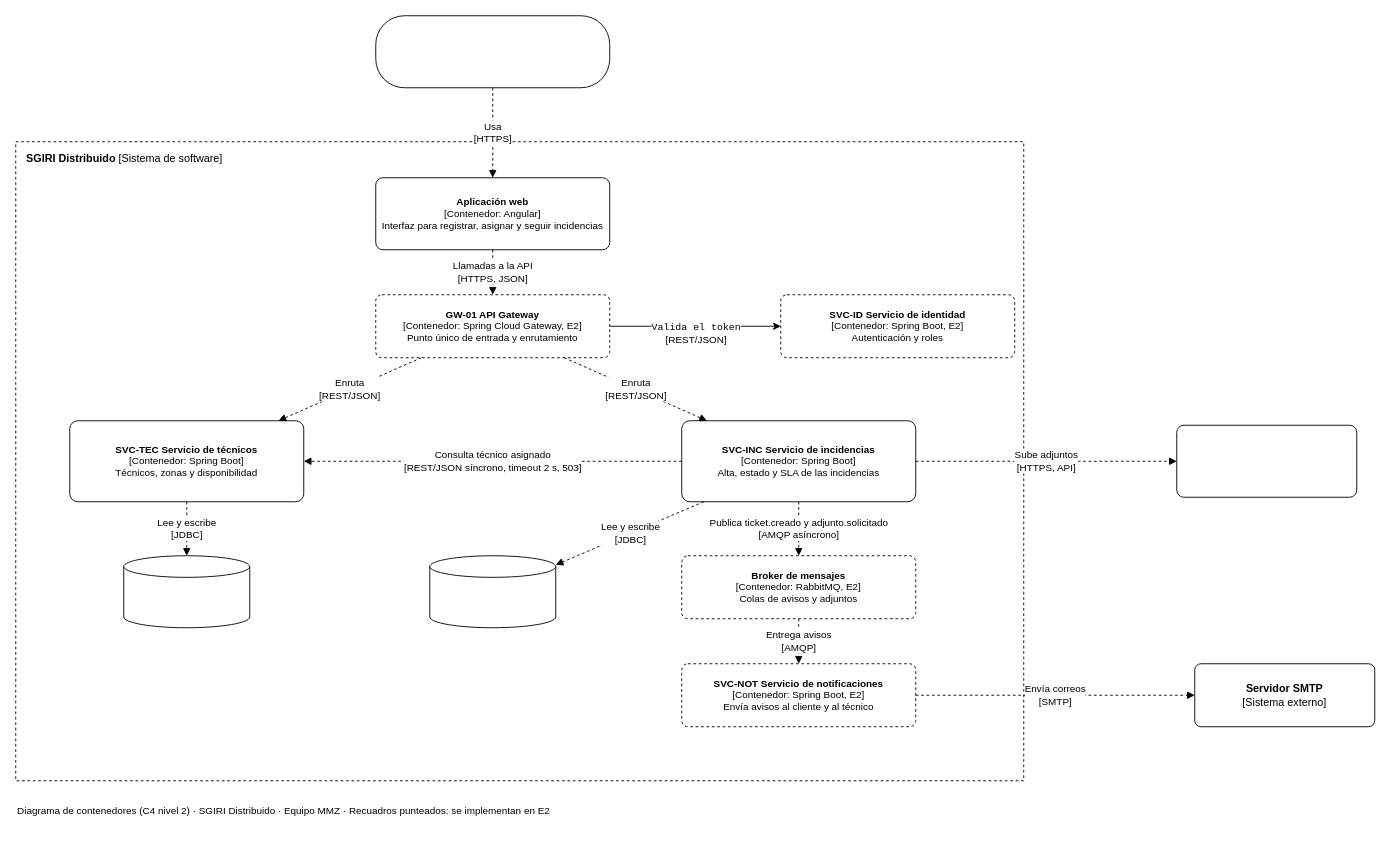
The diagram is 1391 pixels wide and 842 high, and some of its shapes have lost their labels. The shapes that lost their labels are listed below. From the top down, each one's centre as x and y in pixels, then its label:
At point 492,51: "Cliente, agente, técnico y administrador [Personas]".
At point 1266,460: "ALM-ADJ Cloudinary [Sistema externo] Fotos y documentos adjuntos".
At point 186,591: "BD técnicos [PostgreSQL]".
At point 492,591: "BD incidencias [PostgreSQL]".
